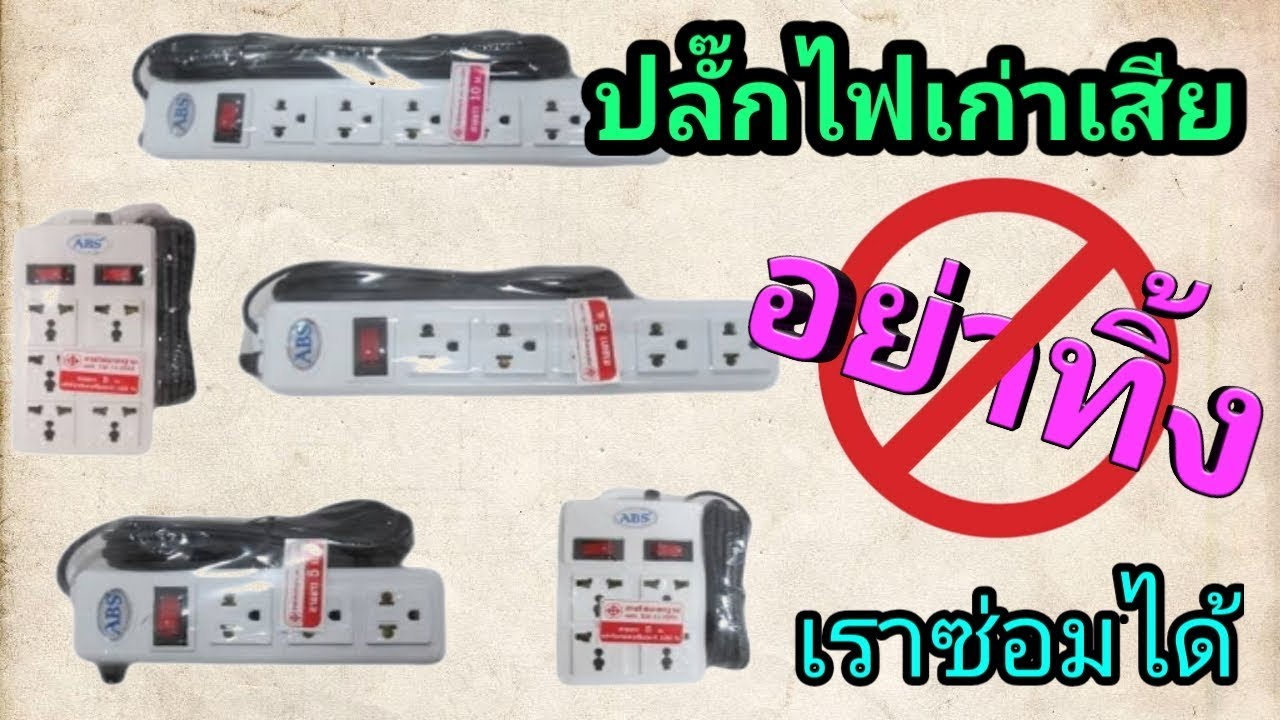Three_eye_plug: (237, 283, 789, 399), (130, 75, 592, 172), (62, 557, 457, 670), (8, 218, 166, 463), (549, 480, 724, 690)
